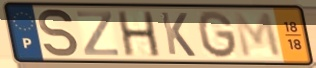G: (195, 9, 240, 60)
H: (115, 10, 164, 59)
K: (158, 10, 198, 59)
M: (231, 11, 285, 60)
S: (37, 7, 81, 59)
Z: (75, 10, 121, 58)
